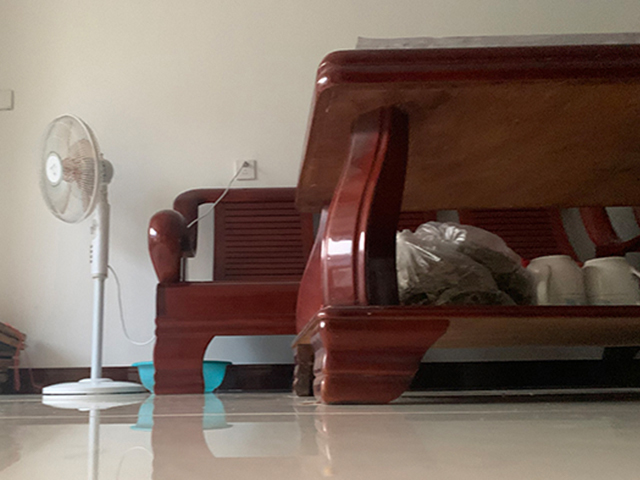sofa: (147, 187, 299, 396)
table: (290, 42, 640, 406)
wire: (187, 161, 250, 229)
